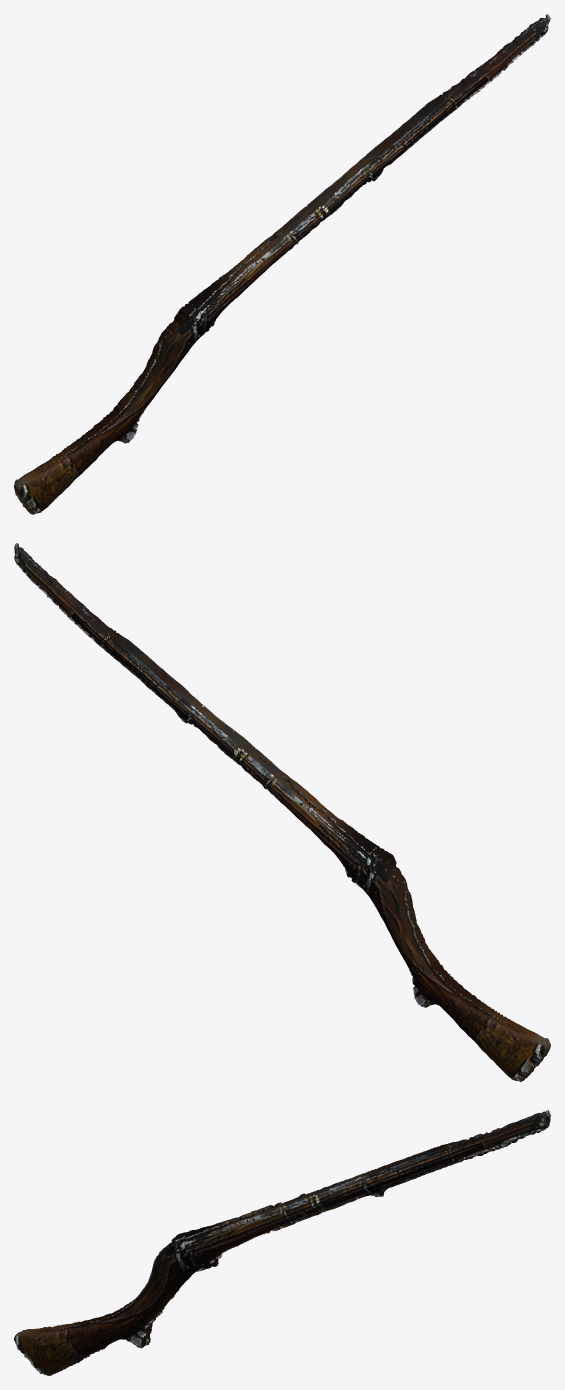
File: kfl-2209.glb
3 renders of one model, top to bottom at view 1: azimuth 30°, elevation 25°; view 2: azimuth 150°, elevation 25°; view 3: azimuth 330°, elevation 25°, orthographic. The views are drawn at different scales.
Visible parts, largest first — view 1: kfl-2209; view 2: kfl-2209; view 3: kfl-2209.
Boxes of the visible parts, left/top/right/bottom form: kfl-2209: left=14, top=14, right=550, bottom=514; kfl-2209: left=14, top=543, right=550, bottom=1081; kfl-2209: left=14, top=1110, right=550, bottom=1375.
Bounding box in the file's own units: 0.9841 × 0.6923 × 0.0732.
Materials: 4 (4 with a texture image).
